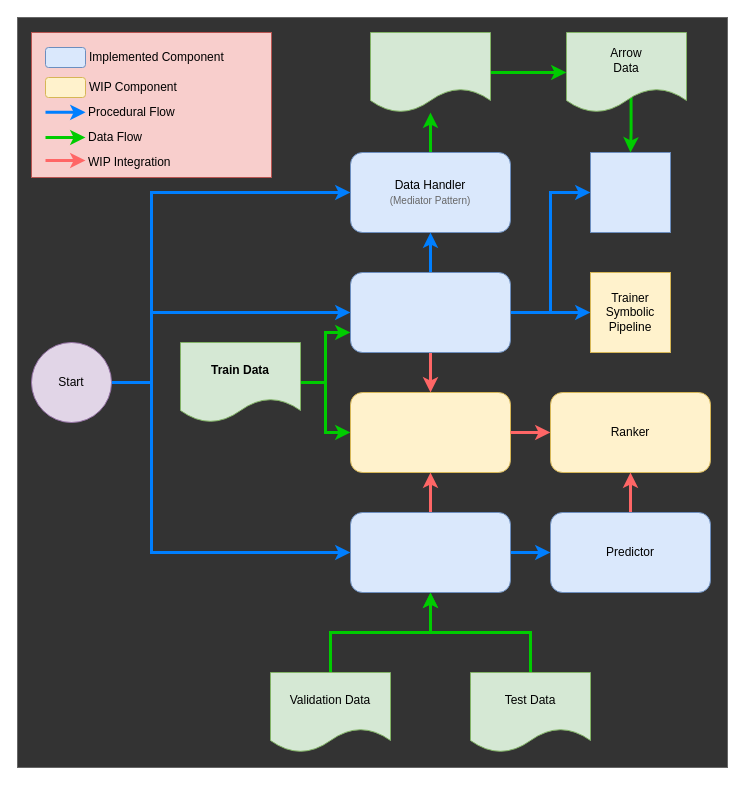
This 745x785 diagram has some shape labels left out. Here are the shapes that lost their labels. From the top down, the centre of each, then its label:
point 430,72: Augmented Train Data
point 630,192: Trainer Transformer
point 430,312: Trainer (Mediator Pattern)
point 430,432: Classification Pipeline (Chain of Responsibility Pattern)
point 430,552: Inferer (Mediator Pattern)
